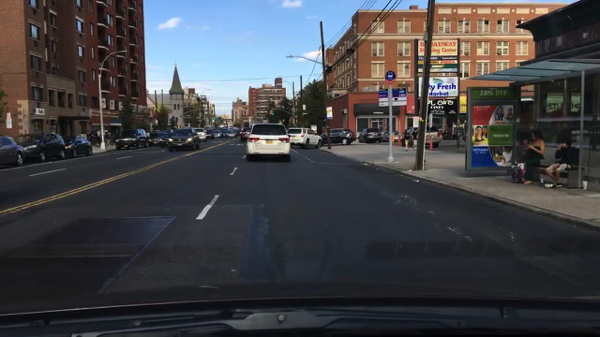car: (245, 123, 292, 163), (12, 132, 66, 162), (402, 122, 441, 148), (167, 126, 200, 153), (0, 136, 25, 170), (114, 129, 148, 152), (286, 128, 322, 148), (63, 136, 93, 159), (318, 129, 356, 145), (148, 131, 170, 147), (359, 127, 381, 143), (441, 125, 463, 140), (383, 130, 402, 142), (239, 128, 253, 142), (192, 129, 207, 142), (211, 129, 225, 138), (225, 129, 237, 139), (204, 129, 213, 139), (156, 128, 174, 133), (220, 127, 228, 134), (143, 132, 151, 138), (236, 129, 243, 135), (230, 127, 238, 132), (211, 127, 220, 131), (227, 127, 232, 132)
person: (509, 130, 545, 184), (543, 139, 573, 189), (412, 126, 420, 151), (403, 129, 411, 153), (94, 128, 101, 148), (103, 131, 111, 147), (84, 132, 90, 146), (89, 131, 94, 142)
traffic light: (270, 110, 274, 117)
traffic sign: (390, 88, 408, 105), (378, 88, 389, 107), (385, 71, 396, 82), (326, 107, 333, 121), (301, 104, 306, 111)
